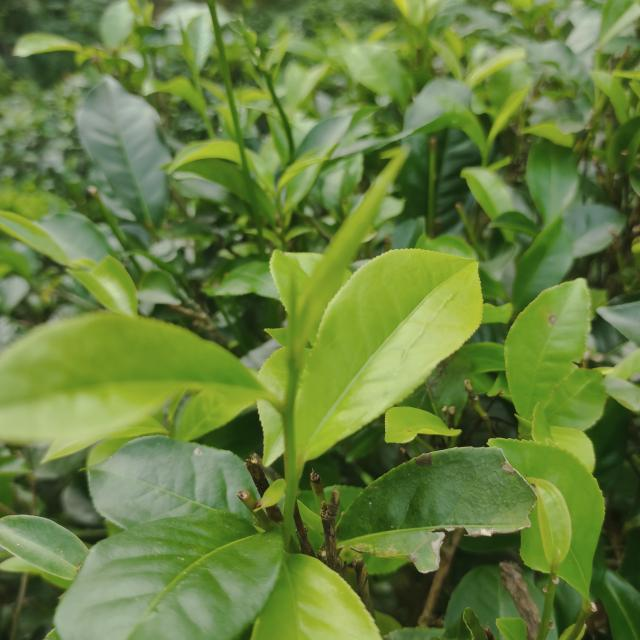unopened_leaf: (288, 136, 413, 353), (279, 249, 306, 372)
